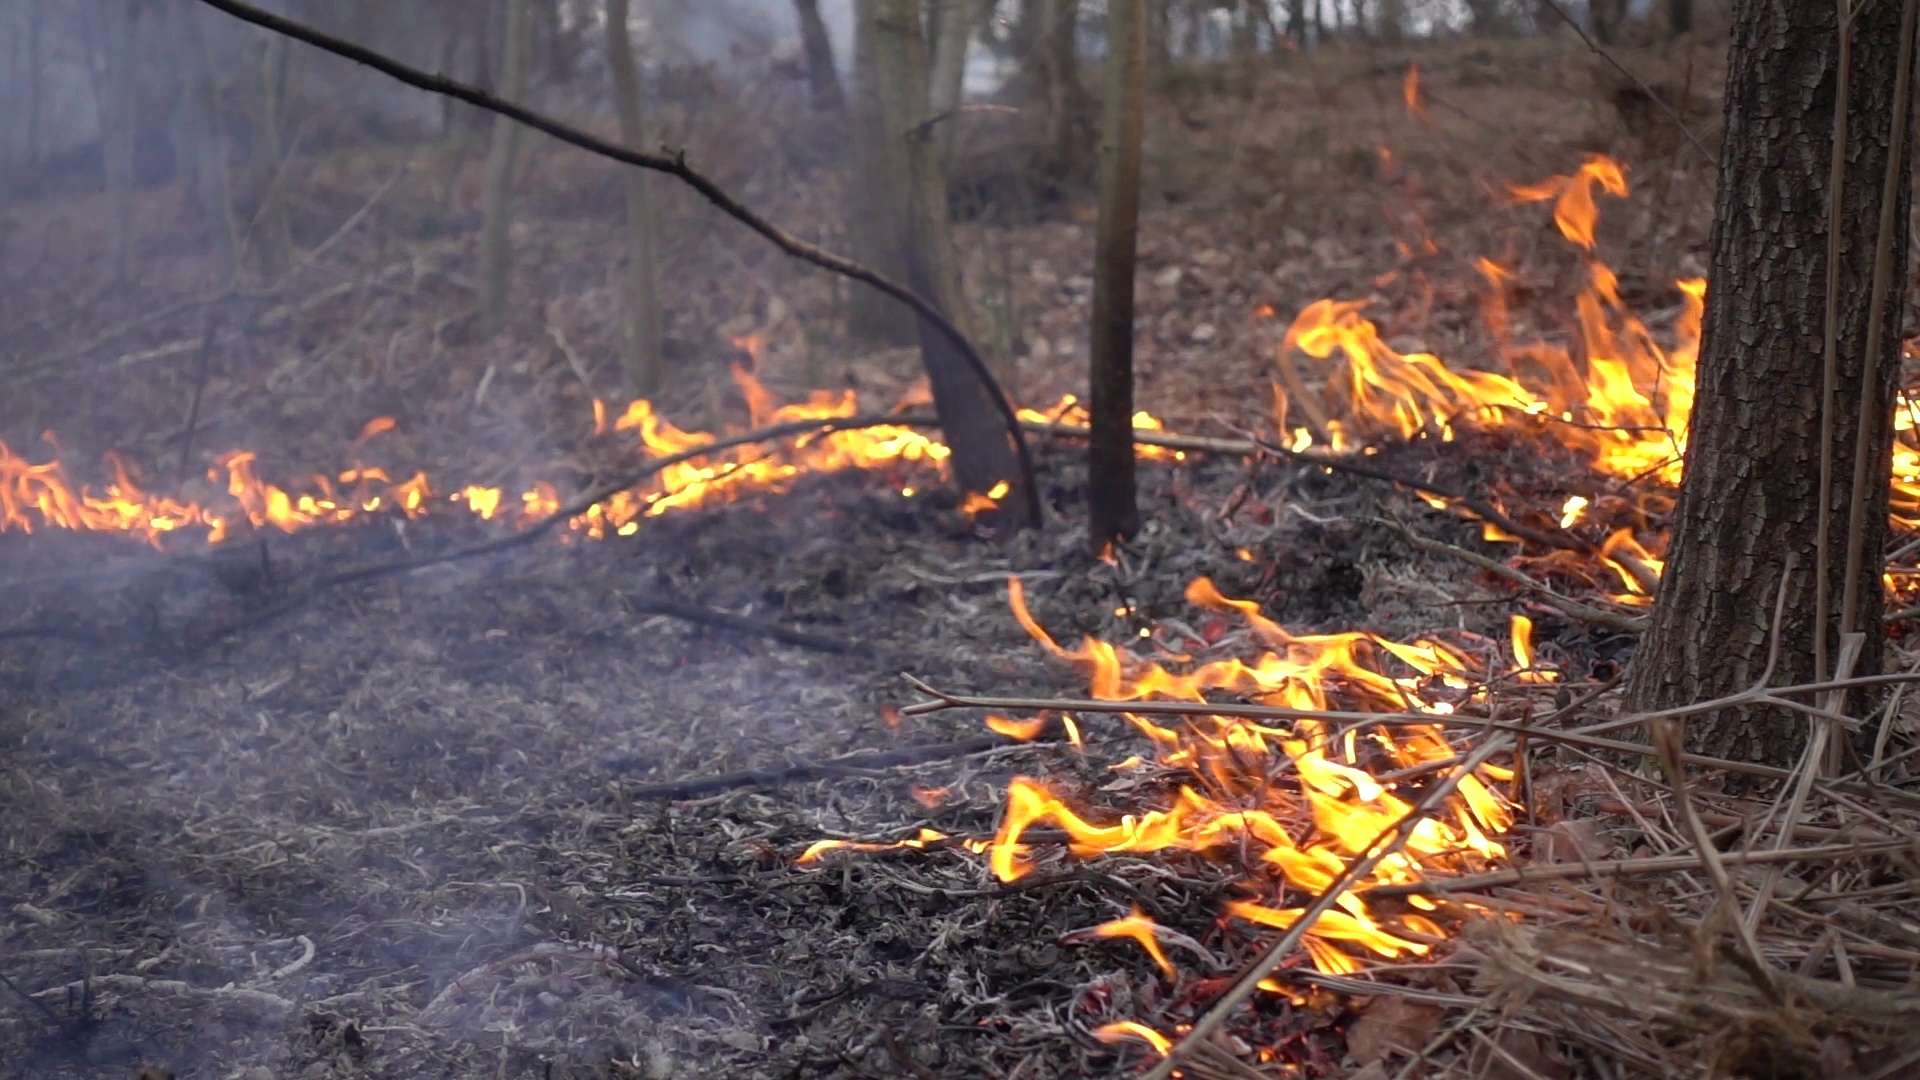fire: (971, 564, 1545, 985), (588, 385, 952, 531), (1276, 295, 1545, 458), (1572, 273, 1695, 469), (5, 455, 196, 535), (224, 458, 431, 531), (1531, 152, 1631, 239), (1892, 393, 1920, 509)
